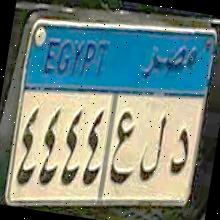4: (56, 103, 88, 190), (35, 102, 65, 188), (80, 103, 108, 192), (14, 101, 43, 186)
ain: (104, 105, 140, 187)
daal: (168, 123, 192, 178)
laam: (134, 109, 170, 186)
